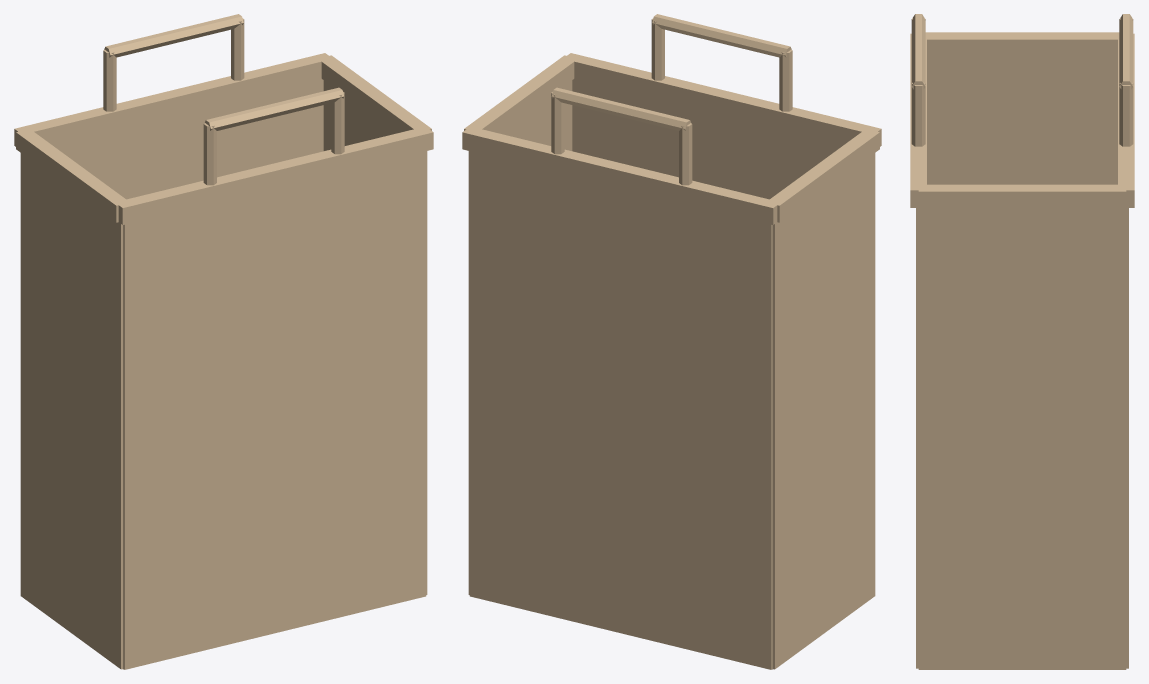
File: bag_open.glb
3 renders of one model, left to right at view 1: azimuth 30°, elevation 25°; view 2: azimuth 150°, elevation 25°; view 3: azimuth 270°, elevation 25°, orthographic. The views are drawn at different scales.
Parts seen in each view (by area): view 1: bag_open; view 2: bag_open; view 3: bag_open.
Boxes of the visible parts, bbox=[...] form: bag_open: bbox=[14, 14, 433, 669]; bag_open: bbox=[462, 14, 881, 669]; bag_open: bbox=[910, 14, 1134, 669].
Size of the model in its own units: 0.272 by 0.4348 by 0.162.
